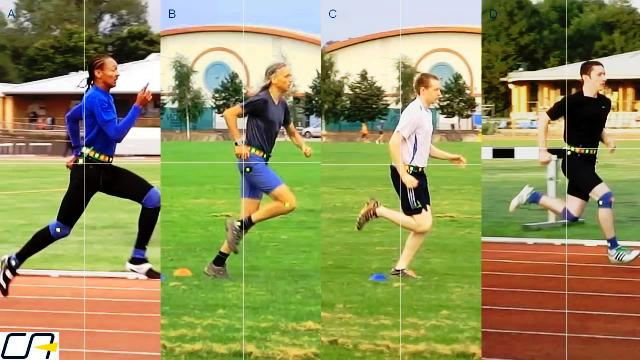berlari: (0, 50, 162, 298), (508, 54, 640, 270), (344, 68, 470, 284), (200, 57, 314, 287)
